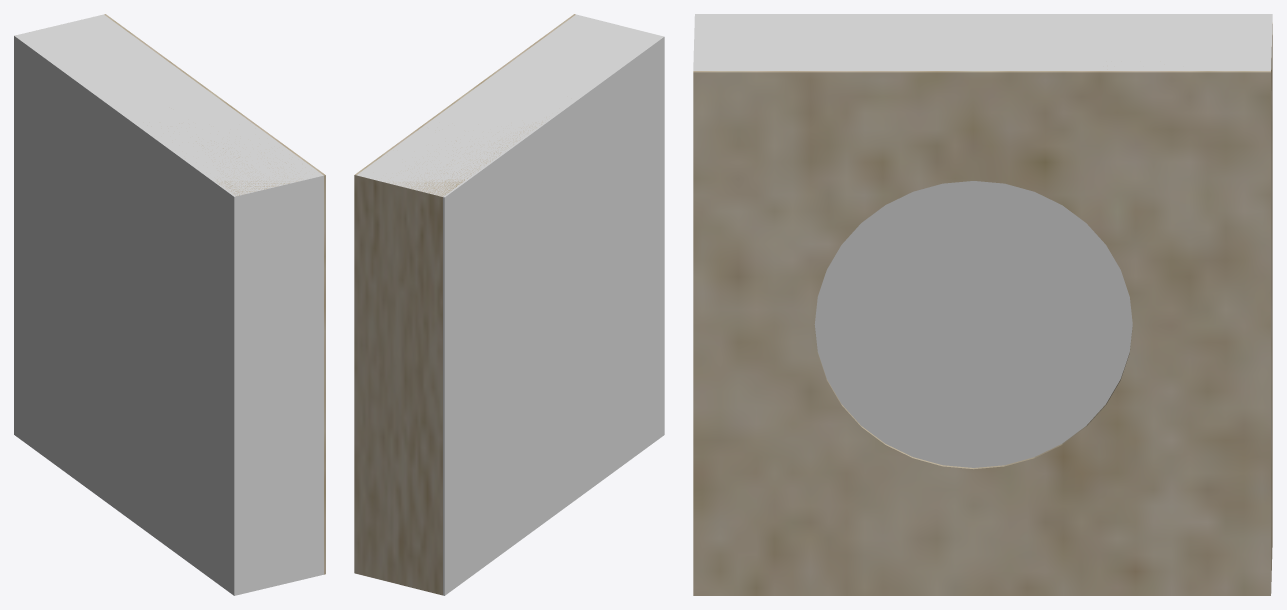
The model's file is Relief.gltf.
3 views of the same model, side by side, from view 1: azimuth 30°, elevation 25°; view 2: azimuth 150°, elevation 25°; view 3: azimuth 270°, elevation 25° (orthographic). The views are drawn at different scales.
Parts seen in each view (by area): view 1: COL, Cube; view 2: COL, Cube; view 3: Cube, COL.
Boxes of the visible parts, x1=… form: COL: x1=14, y1=14, x2=323, y2=595; Cube: x1=104, y1=14, x2=325, y2=574; COL: x1=357, y1=14, x2=664, y2=595; Cube: x1=354, y1=14, x2=575, y2=595; Cube: x1=693, y1=23, x2=1272, y2=595; COL: x1=693, y1=14, x2=1272, y2=467.
Size of the model in its own units: 2.24 by 9.4 by 9.43.
3 materials, 2 textured.
